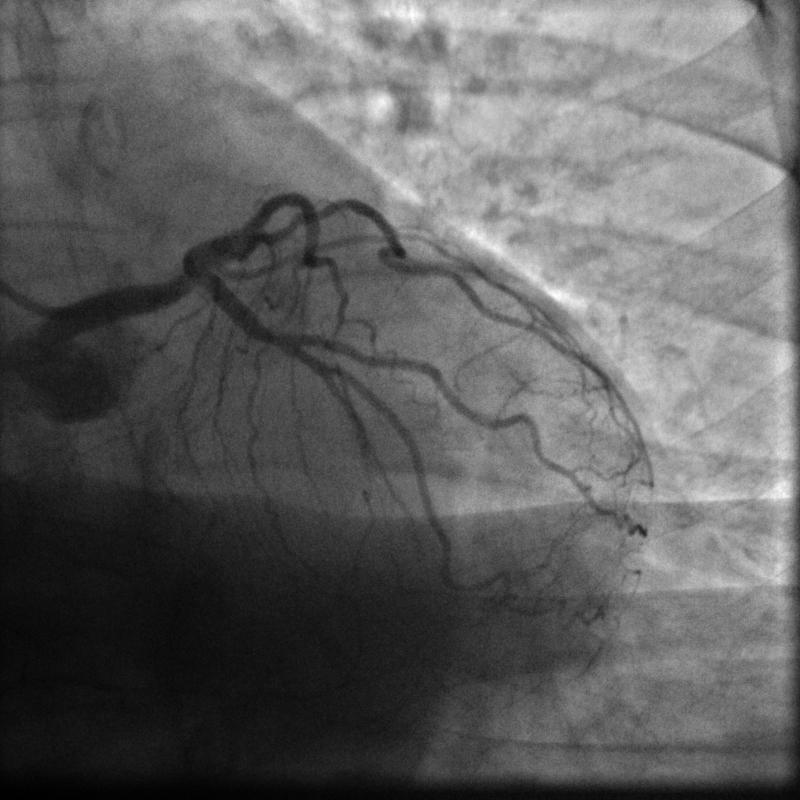Stenosis: (262, 314, 290, 360)
